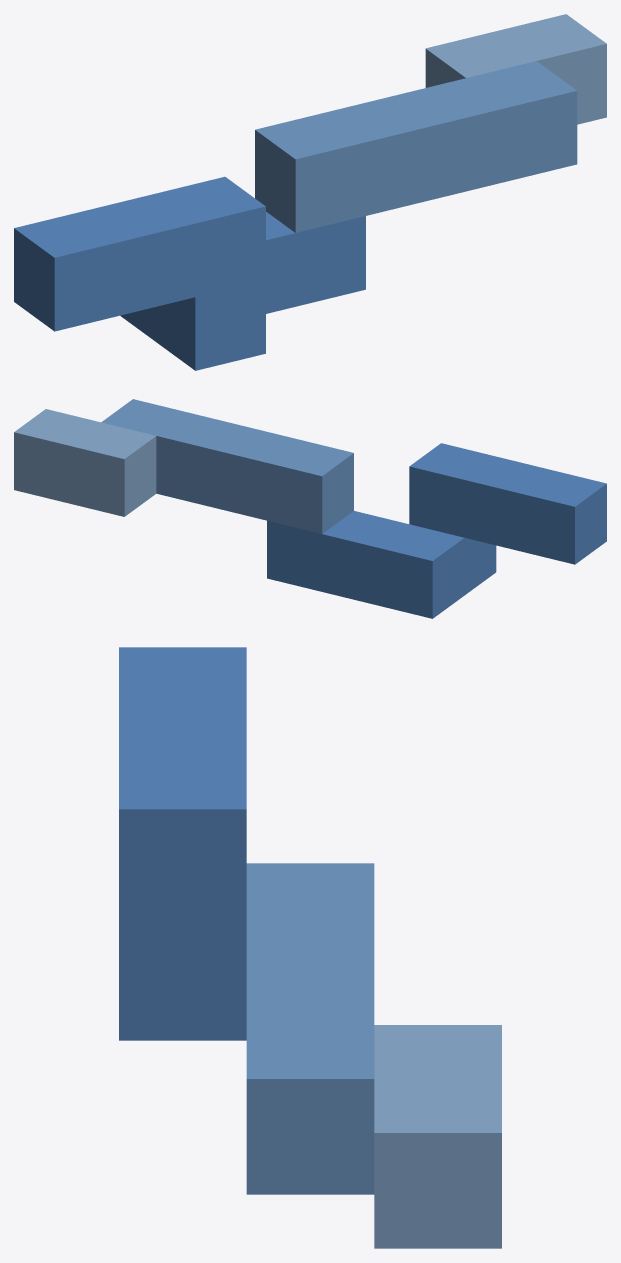
Rendered from electric_bolt.obj.
The picture shows the model from 3 angles, top to bottom: view 1: azimuth 30°, elevation 25°; view 2: azimuth 150°, elevation 25°; view 3: azimuth 270°, elevation 25°; orthographic projection. The views are drawn at different scales.
Bounding box in the file's own units: 9 × 2 × 3.
1 material, 1 textured.
